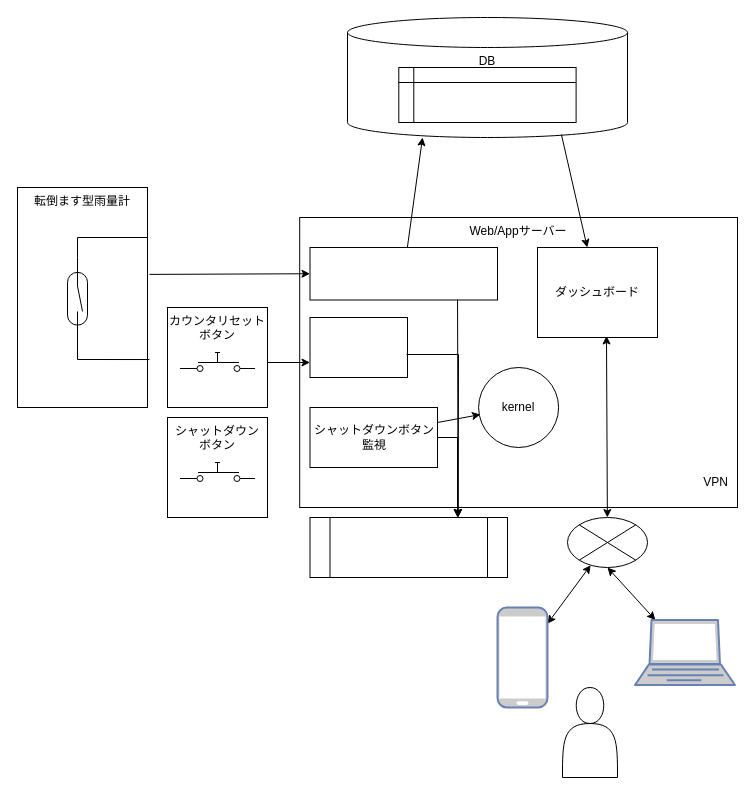
Image size: 755x795. Some labels were removed from this diagram. The centre of each missing label's shape, as x and y in pixels:
"LCD" goes at pixel 408 547.
"リセットボタン 監視" goes at pixel 358 347.
"転倒ますcallback監視" goes at pixel 403 273.
"転倒時刻" goes at pixel 487 94.
